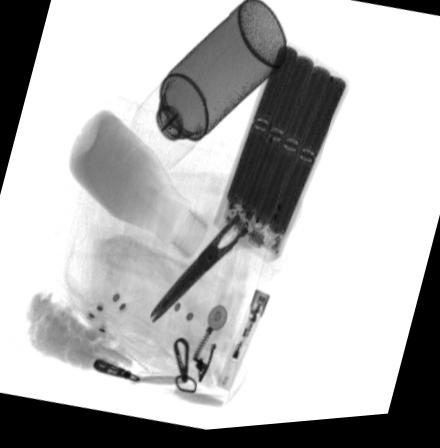Lighter: (213, 290, 272, 401)
Powerbank: (207, 47, 351, 269)
Scissors: (145, 148, 303, 331)
Sprayer: (125, 2, 287, 181)
